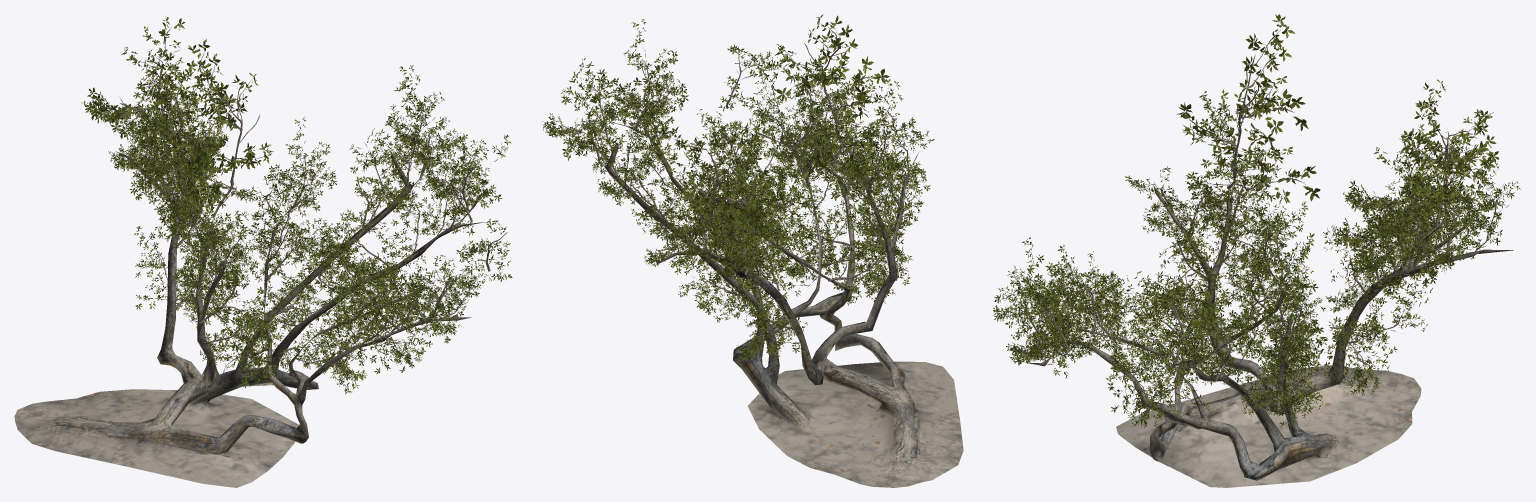
The model's file is island_tree_03.glb.
3 renders of one model, left to right at view 1: azimuth 30°, elevation 25°; view 2: azimuth 150°, elevation 25°; view 3: azimuth 270°, elevation 25°, orthographic. The views are drawn at different scales.
Visible parts, largest first — view 1: island_tree_03_LOD0; view 2: island_tree_03_LOD0; view 3: island_tree_03_LOD0.
Part boxes in pixels (x1=…): island_tree_03_LOD0: x1=14, y1=16, x2=512, y2=487; island_tree_03_LOD0: x1=542, y1=14, x2=963, y2=487; island_tree_03_LOD0: x1=993, y1=14, x2=1520, y2=487.
Bounding box in the file's own units: 2.96 × 2.61 × 2.91.
3 materials, 3 textured.
